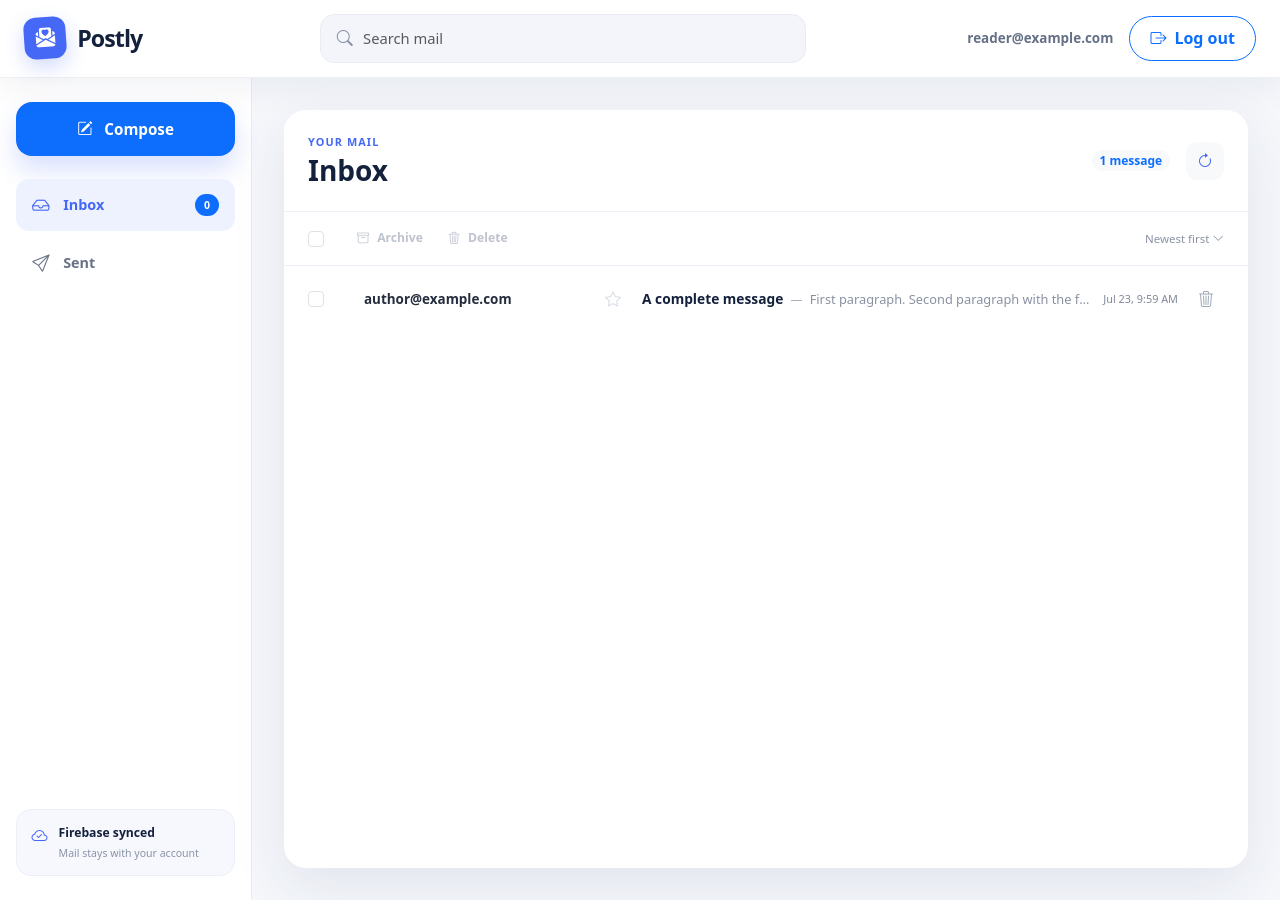
Test case: Reading message component › returns to the inbox list when the back button is clicked
Click the button named "Open message: A complete message".
click(766, 299)  # box [284,266,1248,332]
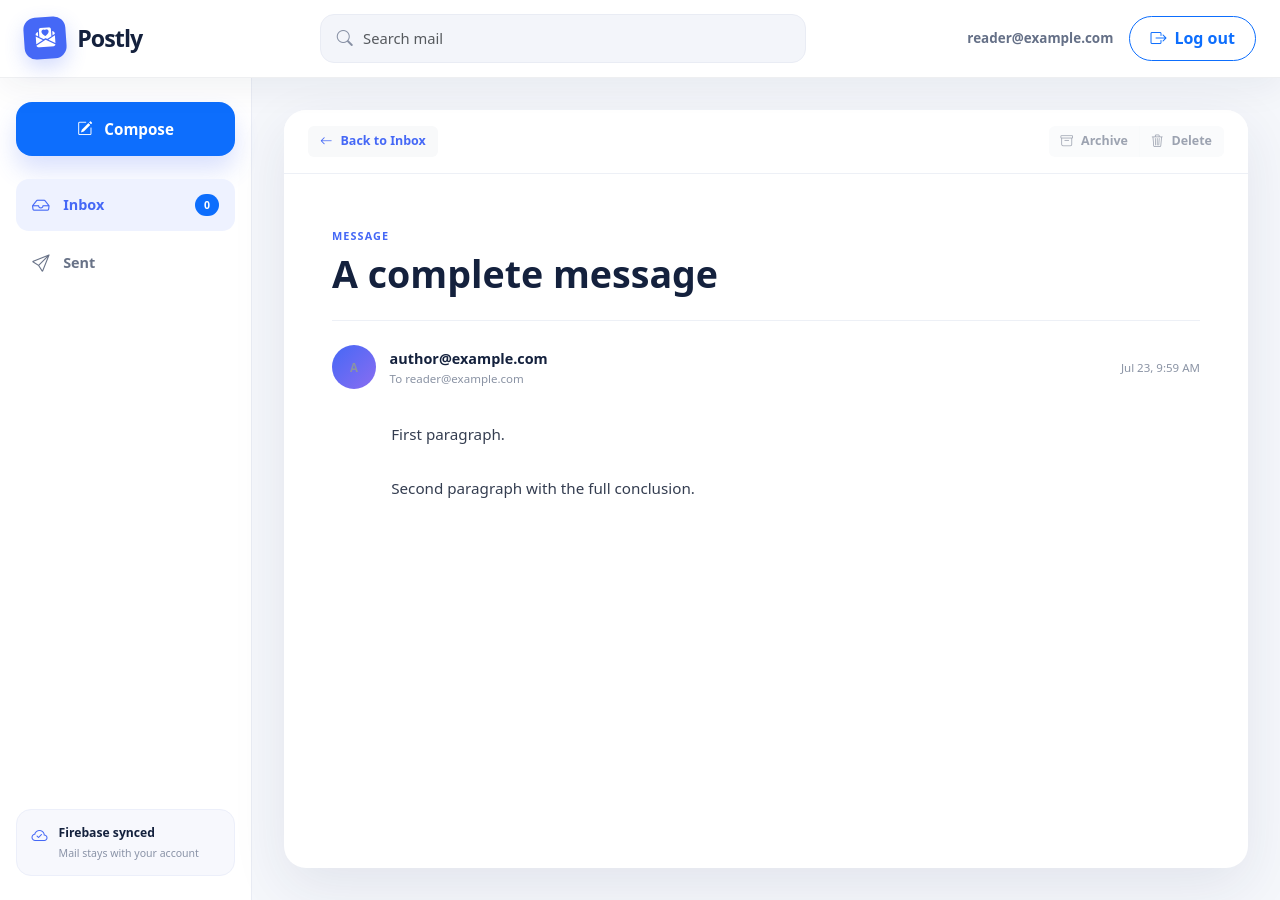
Click the button "Back to Inbox".
click(373, 141)  # box [308,126,438,157]
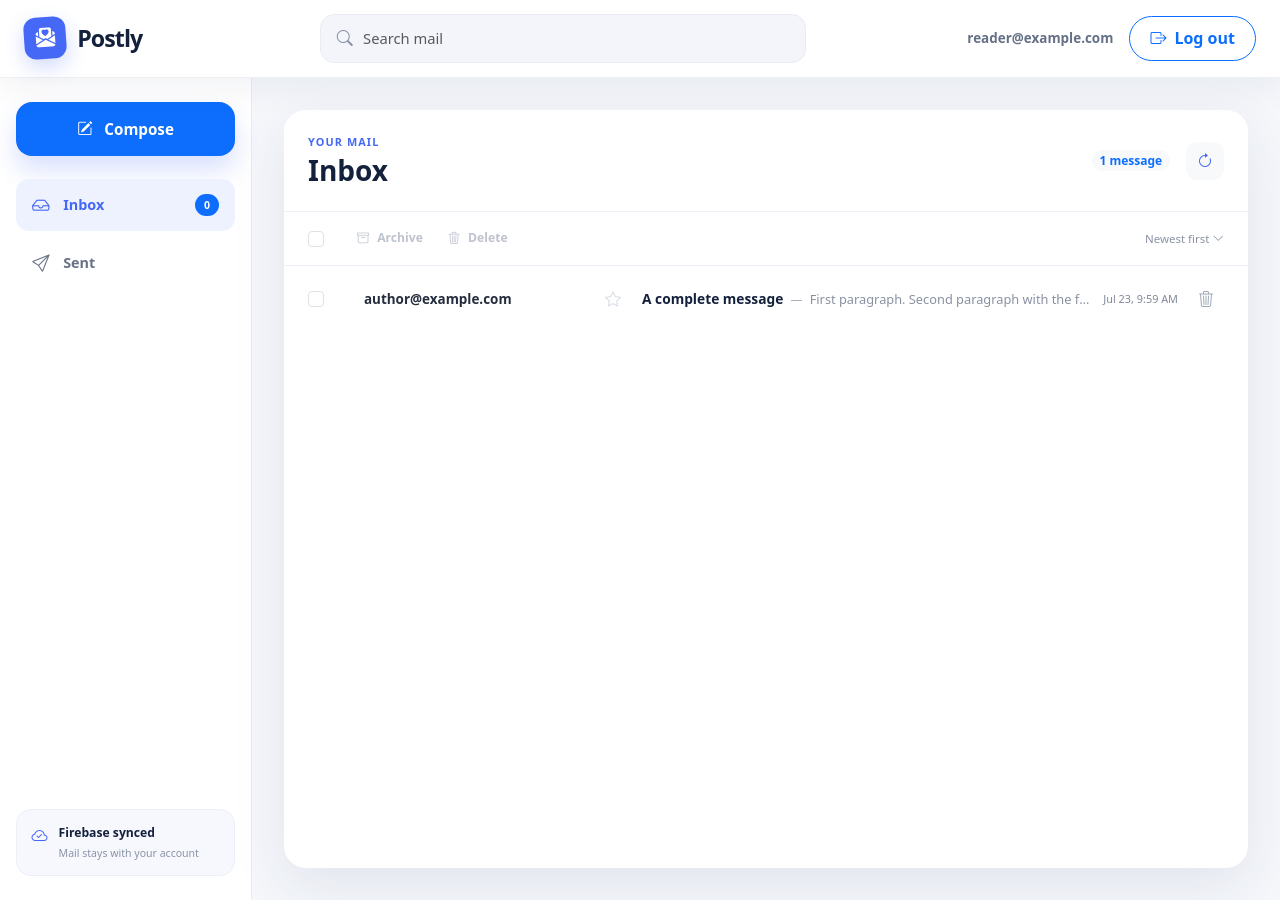
Expected: the heading "Inbox" is shown, [308,154,388,187]
Expected: the button named "Open message: A complete message" is shown, [284,266,1248,332]
